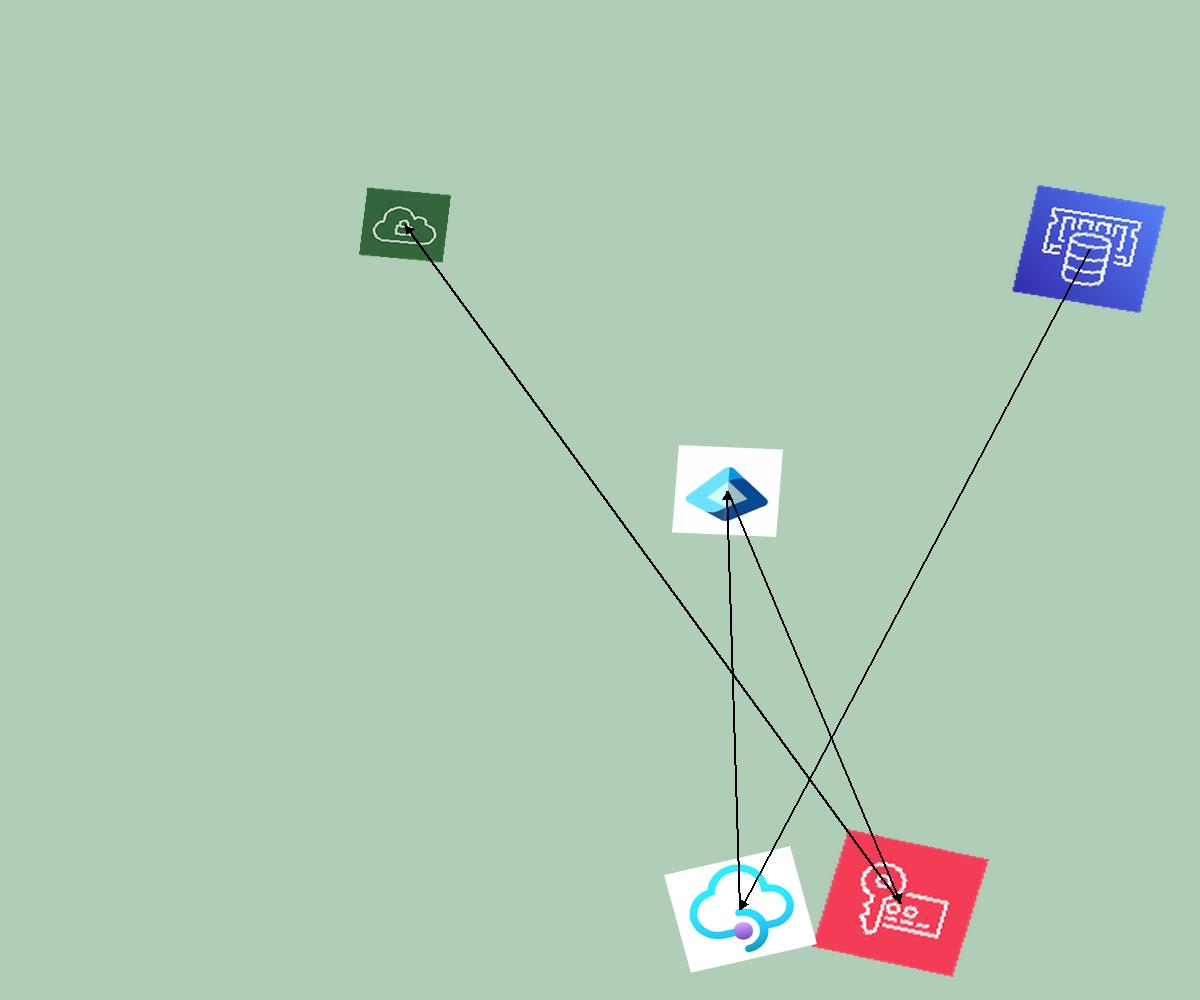AWS-ElastiCache: (1011, 184, 1167, 314)
AWS-Key-Management-Service: (812, 829, 989, 977)
AWS-Private_vpc: (359, 187, 451, 263)
Azure_api_gateway: (664, 846, 817, 973)
Azure_microsoft_entra: (672, 445, 783, 537)
